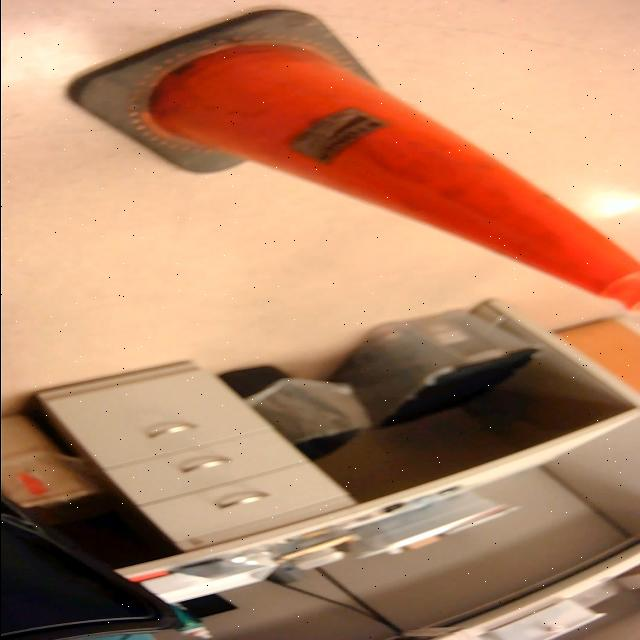traffic cone: (62, 7, 640, 315)
